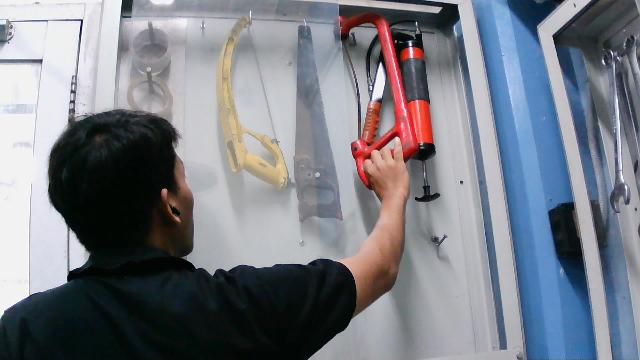gergaji_besi: (330, 7, 422, 189)
